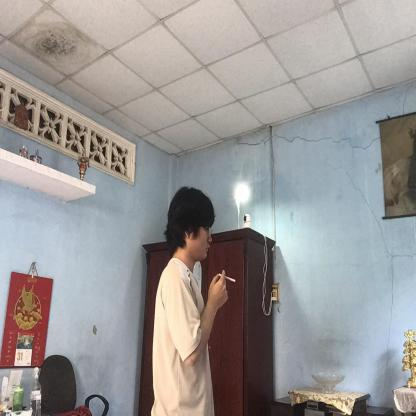cigarette: (226, 275, 236, 284)
person: (150, 186, 232, 414)
